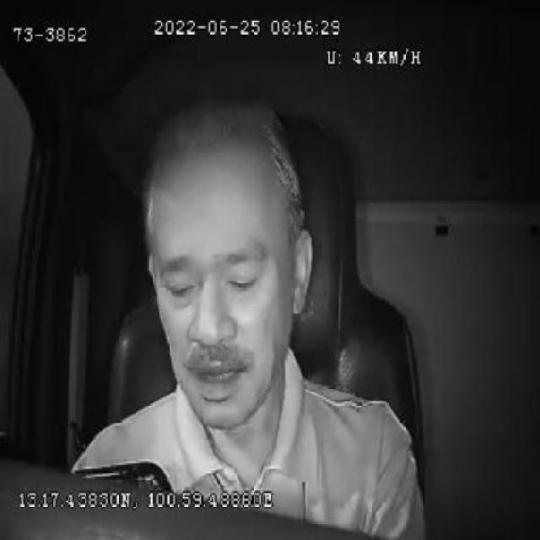phone: (69, 457, 177, 492)
